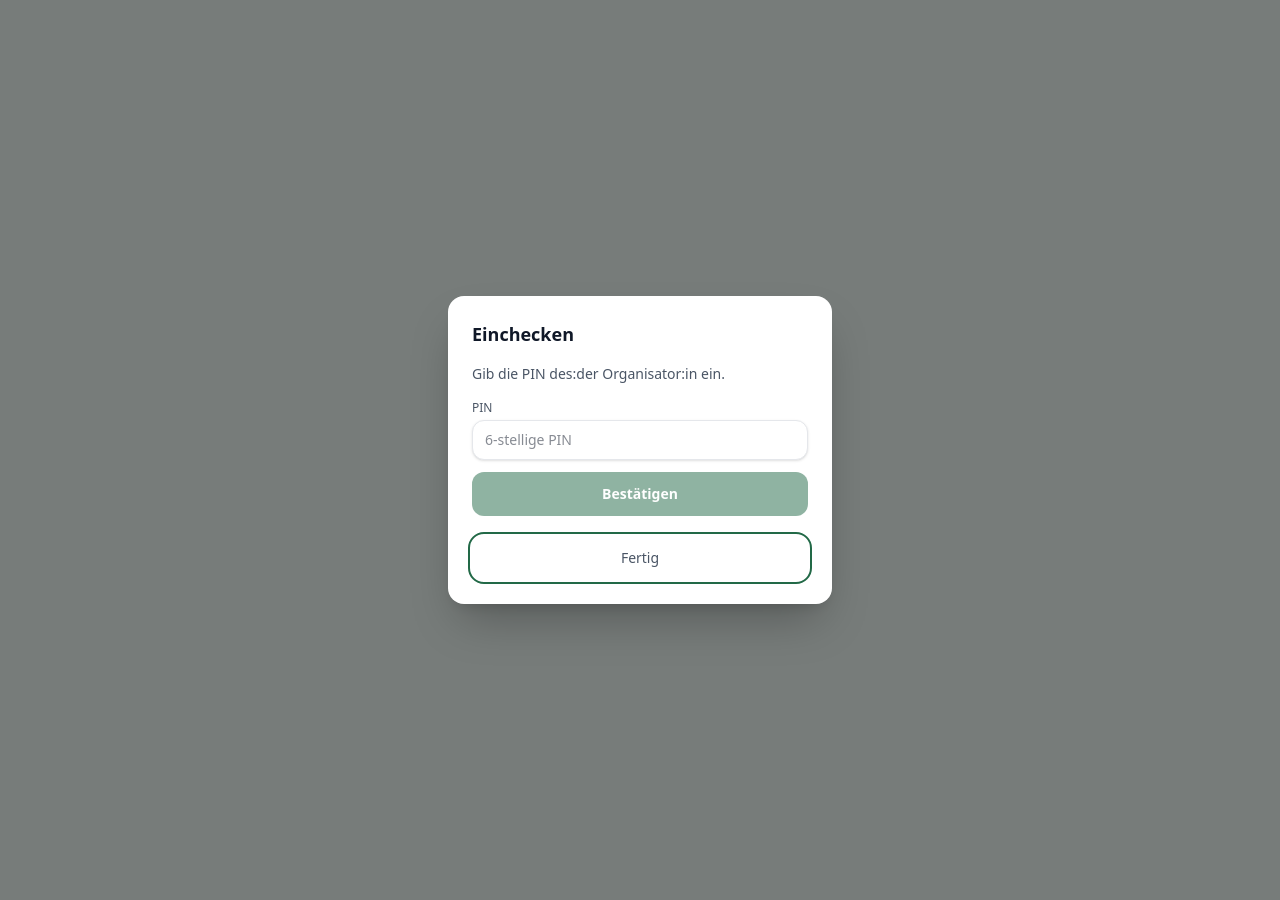
Test: CheckInModal localized PIN error › shows the German translation, not the raw English server text
This screenshot has width=1280, height=900.
Type "000000" into the field labelled "PIN" at [640, 440], box top-left (472, 420), bottom-right (808, 460)
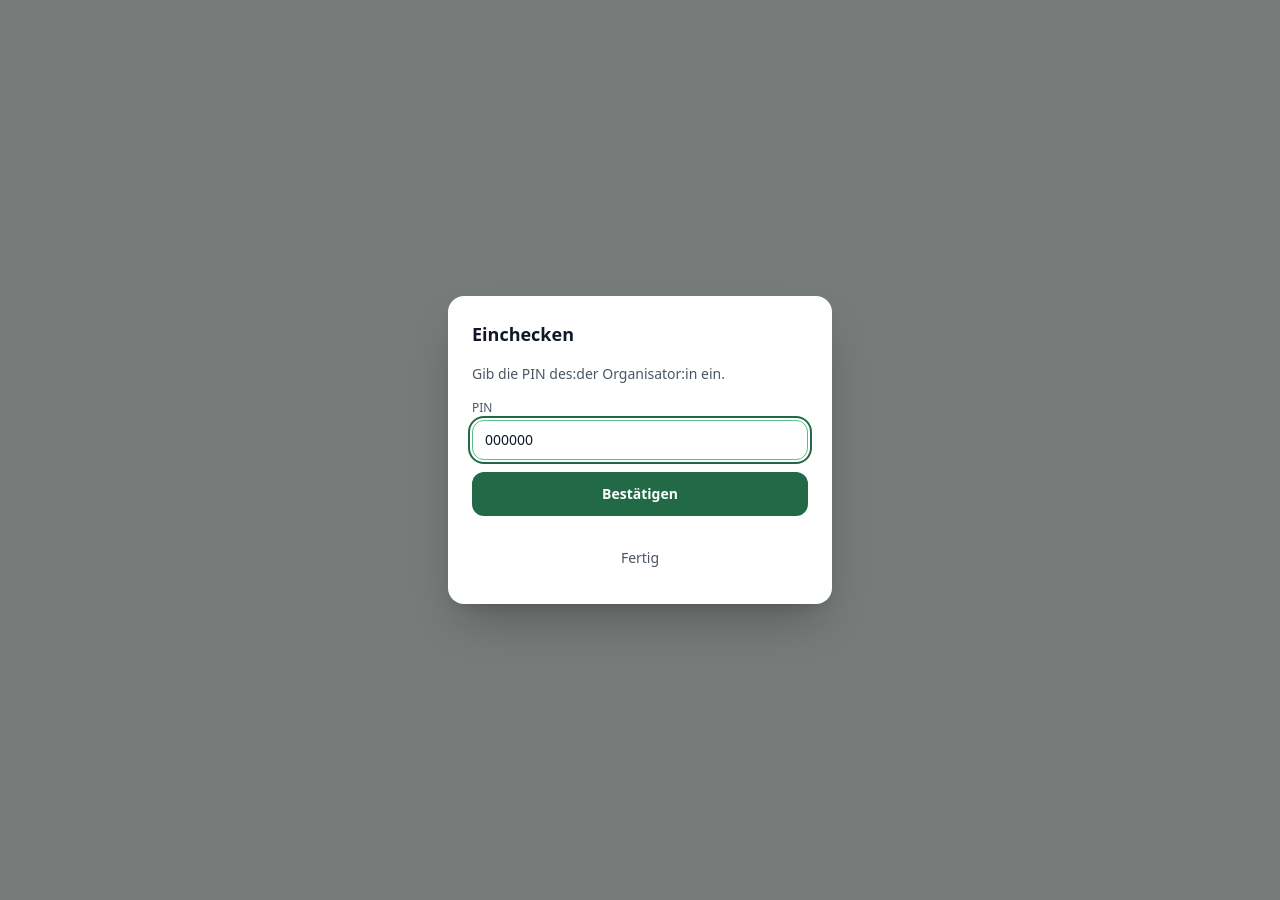
Click the button "Bestätigen" at [640, 494], box top-left (472, 472), bottom-right (808, 516)
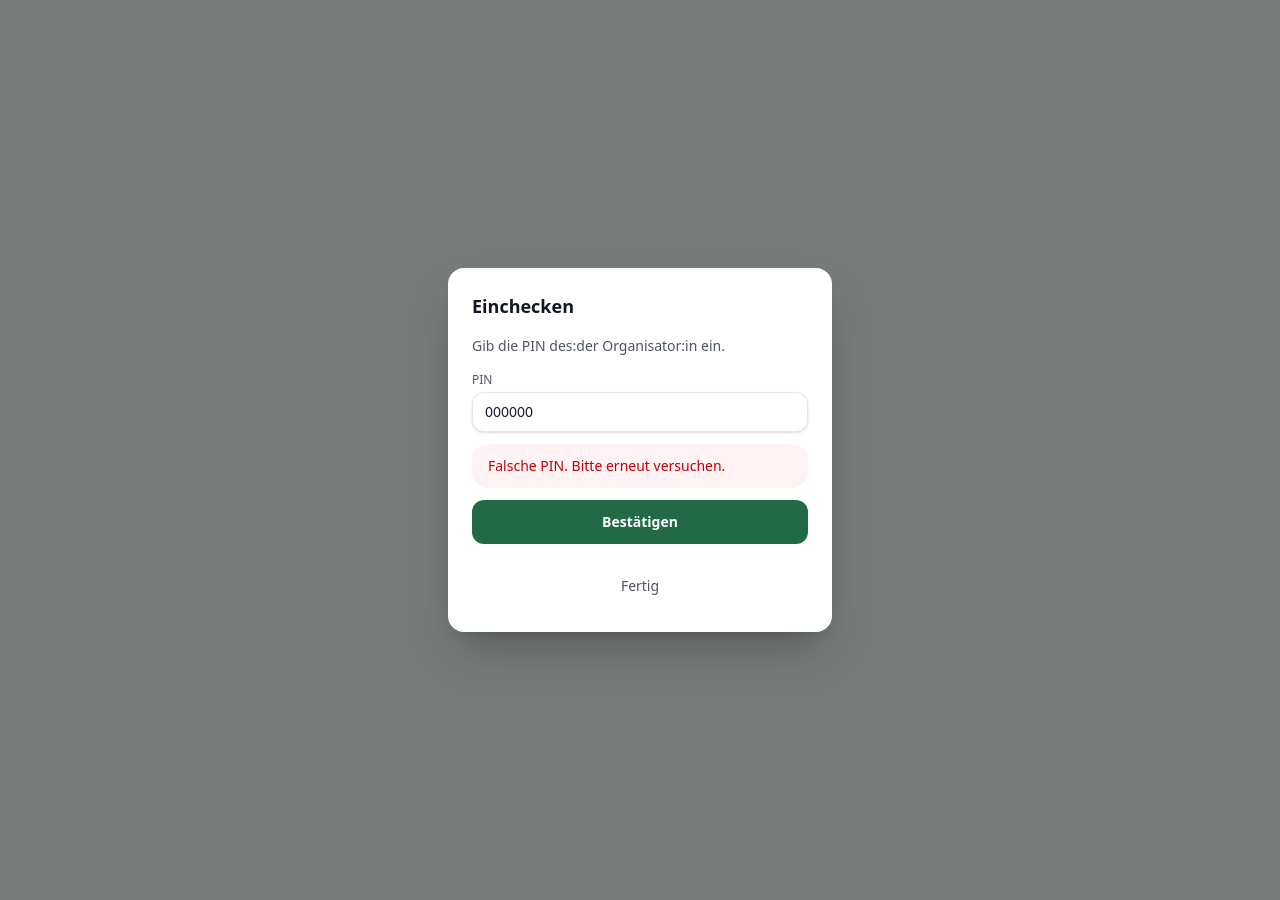
Expected: the text "Falsche PIN. Bitte erneut versuchen." is shown, top-left (472, 444), bottom-right (808, 488)
